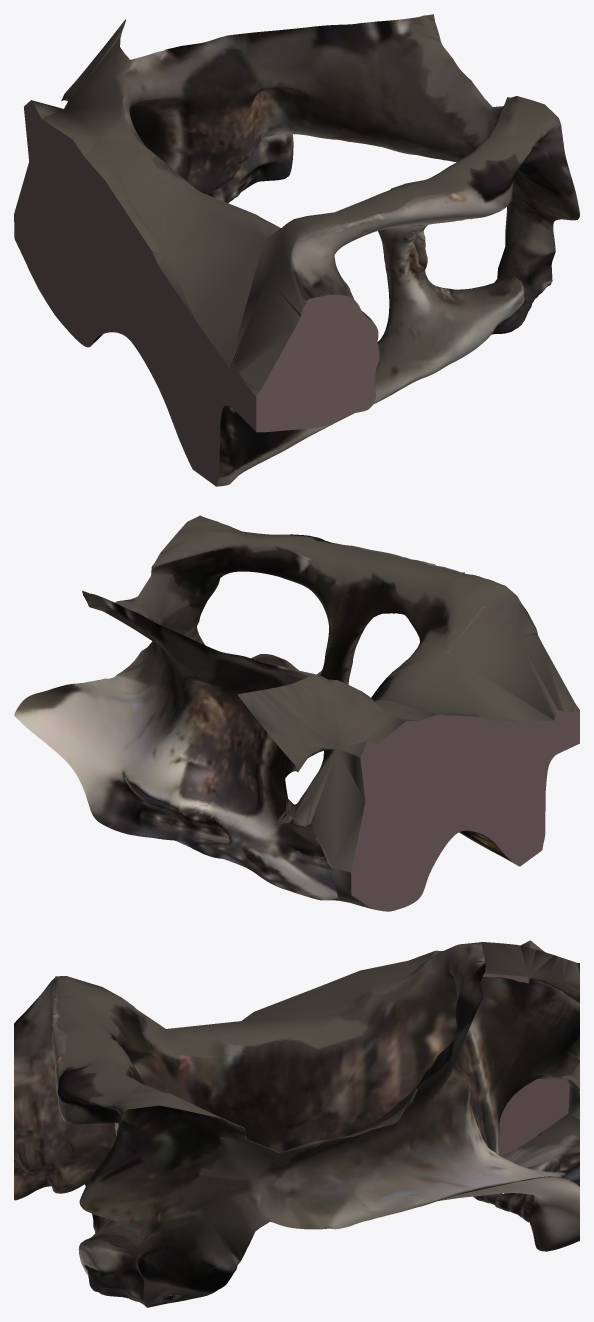
File: rear_brace_edit1.glb
3 views of the same model, one above another, from view 1: azimuth 30°, elevation 25°; view 2: azimuth 150°, elevation 25°; view 3: azimuth 270°, elevation 25° (orthographic). The views are drawn at different scales.
Visible parts, largest first — view 1: 3DModel_Display; view 2: 3DModel_Display; view 3: 3DModel_Display.
Boxes of the visible parts, x1,y1,x2,y2 form: 3DModel_Display: (14,14,579,486); 3DModel_Display: (14,515,579,911); 3DModel_Display: (14,940,579,1307).
Bounding box in the file's own units: 0.5388 × 0.4206 × 0.6534.
Materials: 1 (1 with a texture image).
